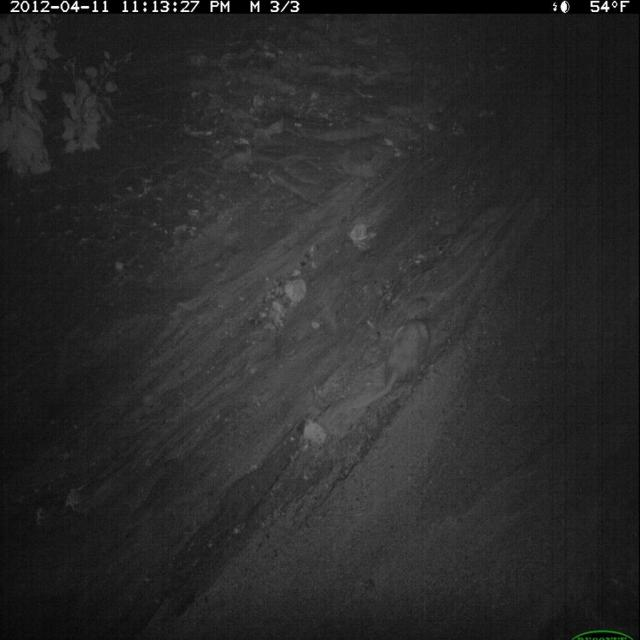opossum: (347, 311, 435, 417)
